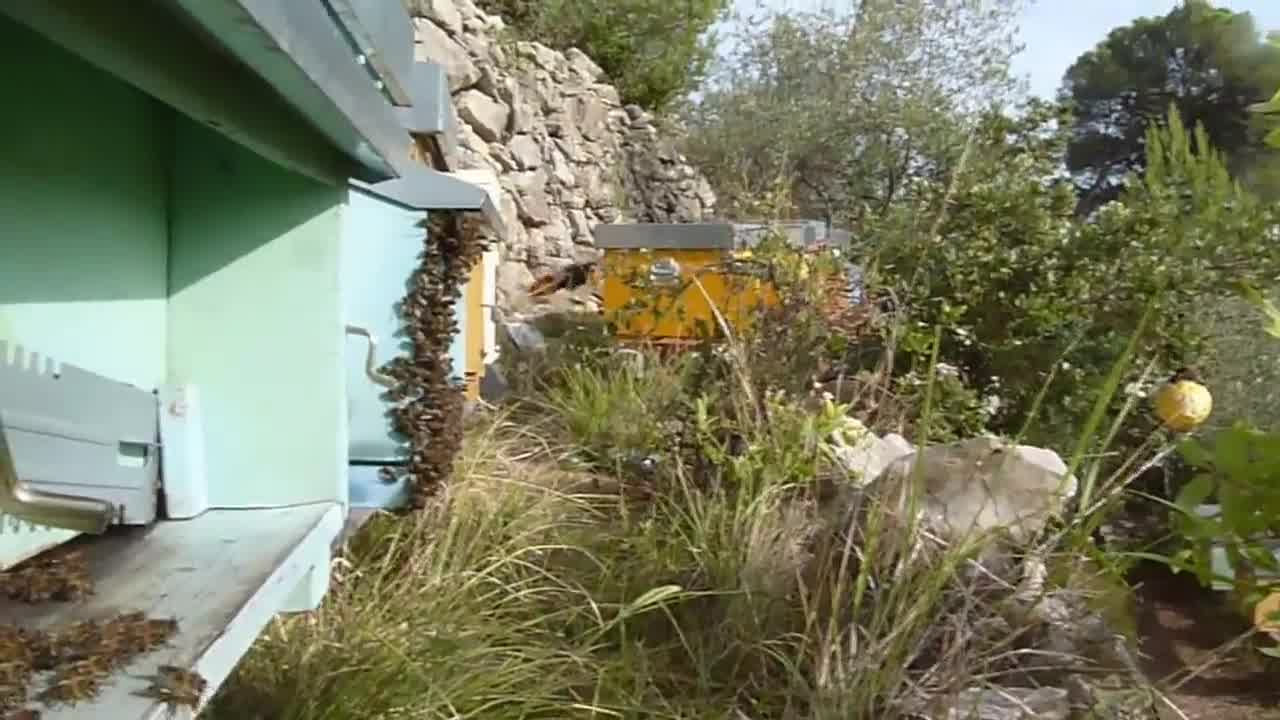bee: (40, 602, 111, 704), (416, 214, 492, 297), (393, 286, 462, 359), (381, 418, 462, 479), (11, 554, 100, 604), (386, 363, 464, 417), (110, 605, 186, 656), (145, 658, 211, 714)
hornet: (523, 250, 608, 309)
